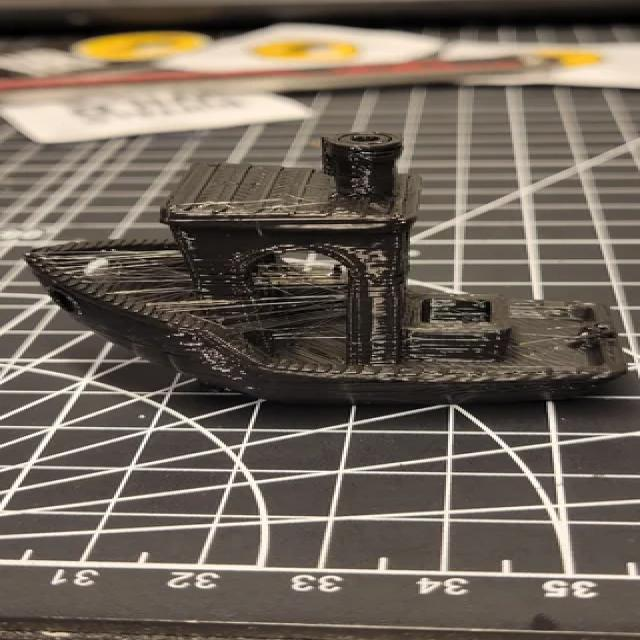Stringing: (55, 250, 357, 334)
